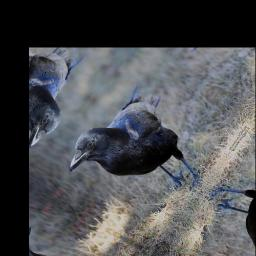Crow: (59, 75, 234, 225)
